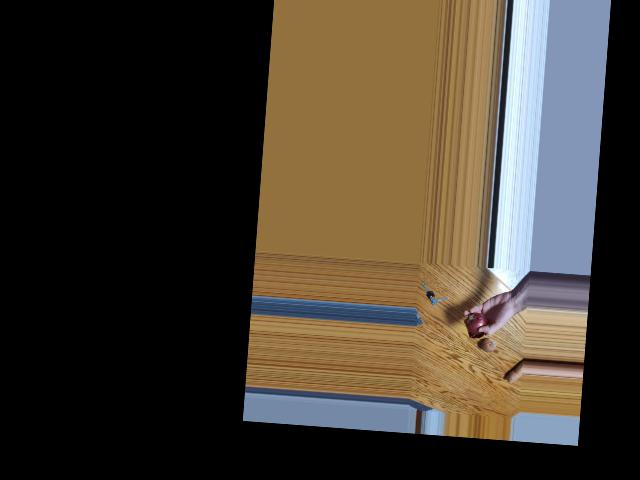onion: (464, 313, 485, 334)
